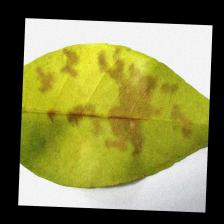canker: (39, 46, 197, 149)
